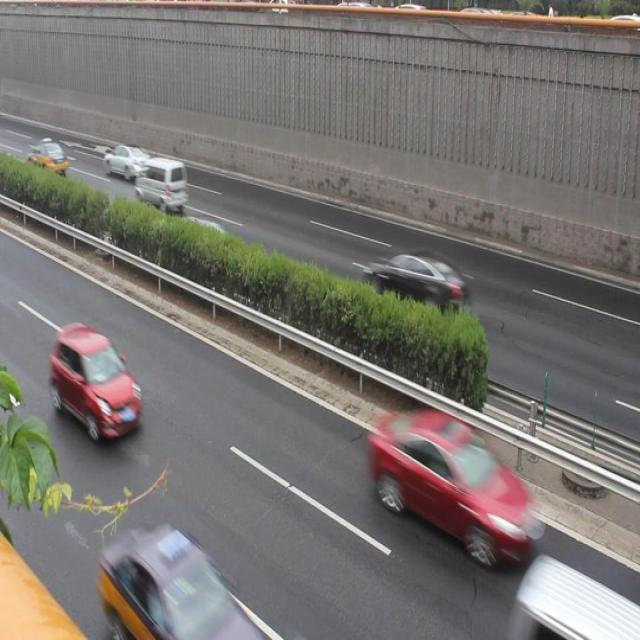car: (363, 401, 542, 545), (99, 524, 262, 640), (46, 317, 140, 442), (362, 240, 470, 324), (174, 209, 234, 270), (98, 141, 152, 187), (26, 136, 73, 180)
truck: (504, 541, 640, 640), (136, 158, 189, 213)
